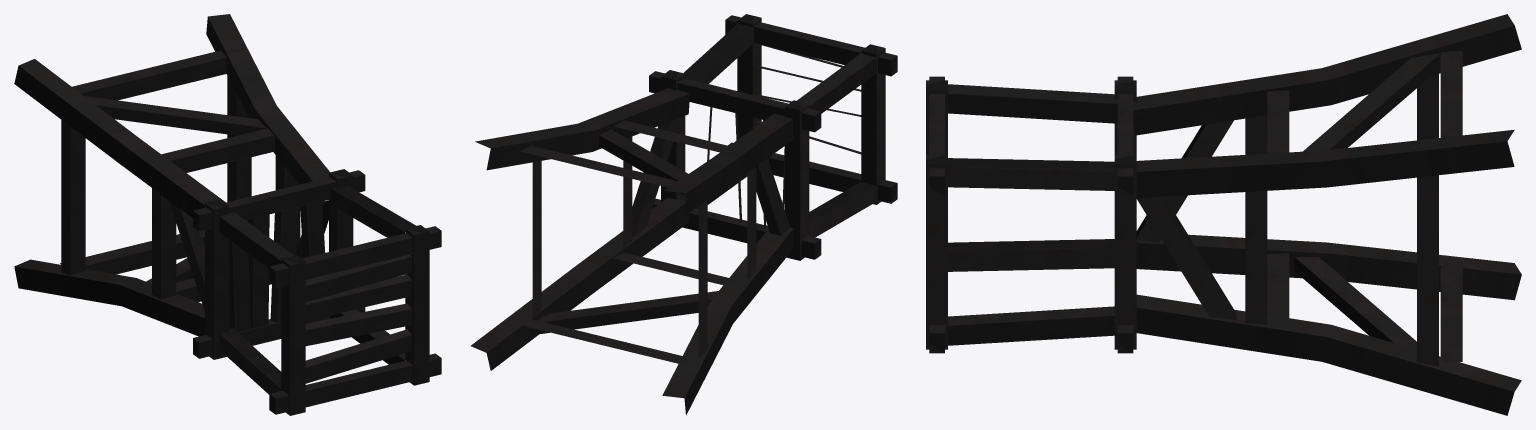
The model's file is watchtower.glb.
3 renders of one model, left to right at view 1: azimuth 30°, elevation 25°; view 2: azimuth 150°, elevation 25°; view 3: azimuth 270°, elevation 25°, orthographic. The views are drawn at different scales.
Visible parts, largest first — view 1: burnt_structures.watchtower-Mesh[0]; view 2: burnt_structures.watchtower-Mesh[0]; view 3: burnt_structures.watchtower-Mesh[0].
Boxes of the visible parts, left/top/right/bottom form: burnt_structures.watchtower-Mesh[0]: left=14, top=14, right=441, bottom=415; burnt_structures.watchtower-Mesh[0]: left=471, top=14, right=897, bottom=415; burnt_structures.watchtower-Mesh[0]: left=926, top=14, right=1521, bottom=415.
Bounding box in the file's own units: 3.87 × 3.85 × 7.56.
Materials: 1 (1 with a texture image).
